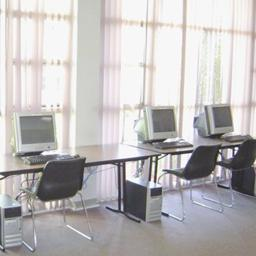Ventana: (110, 1, 252, 133), (1, 2, 72, 145)
